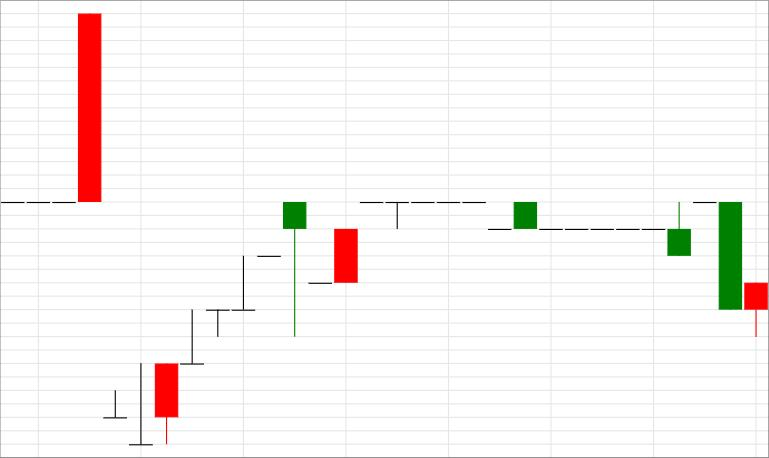hanging_man_fall: (130, 203, 306, 447)
